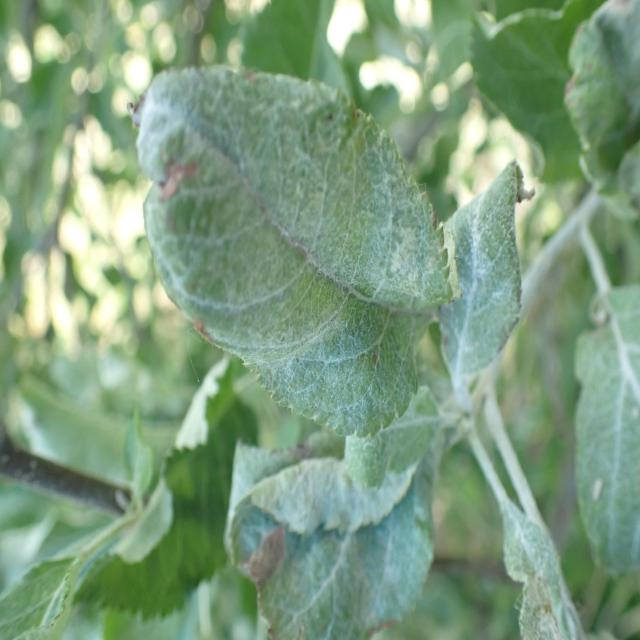Powdery_mildew: (128, 60, 438, 428), (215, 435, 434, 640), (564, 263, 640, 575), (430, 167, 522, 416), (481, 460, 588, 640)
